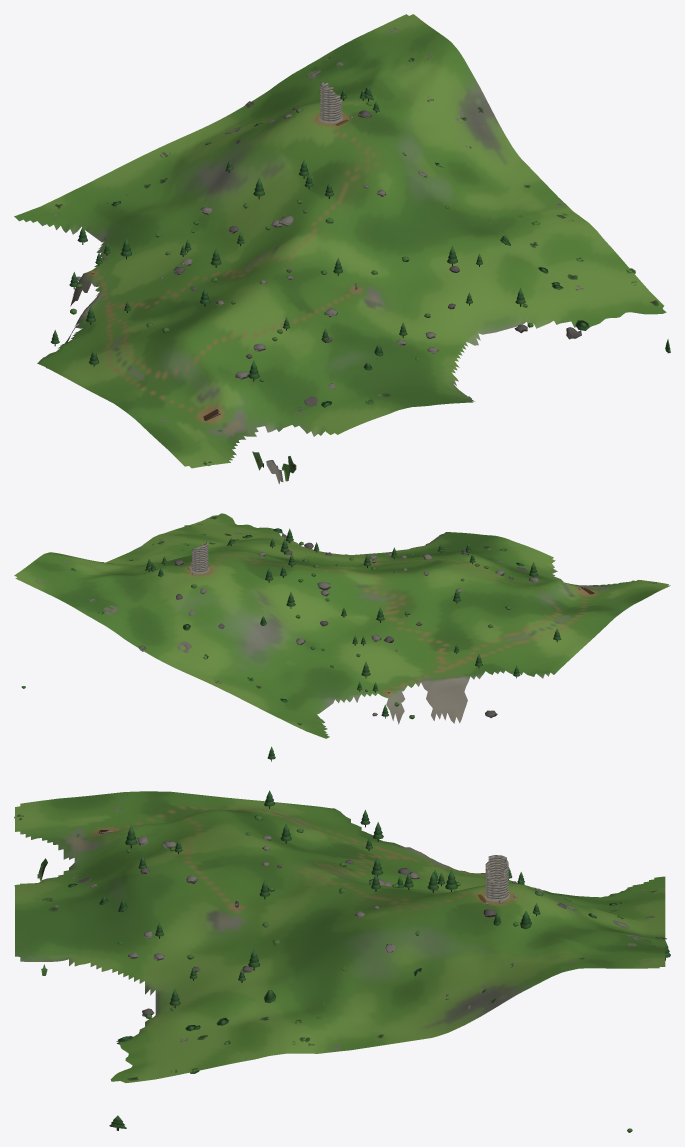
The model's file is arch_isl_lantern_rock.glb.
3 views of the same model, one above another, from view 1: azimuth 30°, elevation 25°; view 2: azimuth 150°, elevation 25°; view 3: azimuth 270°, elevation 25° (orthographic). The views are drawn at different scales.
Parts seen in each view (by area): view 1: arch_isl_lantern_rock; view 2: arch_isl_lantern_rock; view 3: arch_isl_lantern_rock.
Boxes of the visible parts, box(x1,y1,x2,y2) form: arch_isl_lantern_rock: box(14, 14, 670, 484); arch_isl_lantern_rock: box(14, 513, 670, 761); arch_isl_lantern_rock: box(14, 790, 670, 1132).
Bounding box in the file's own units: 242 × 77.02 × 242.
